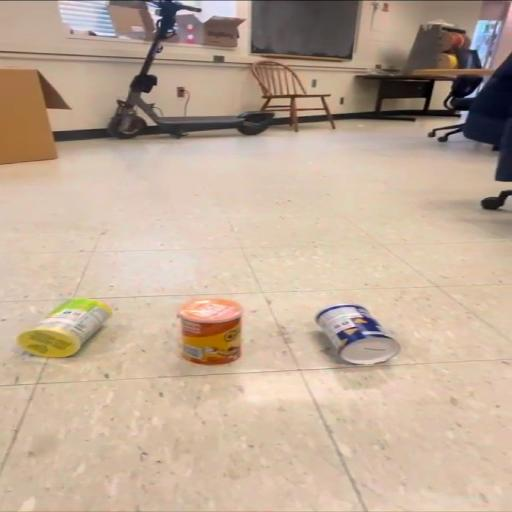pringle can: (12, 296, 117, 362), (309, 303, 406, 369), (179, 297, 244, 366)
